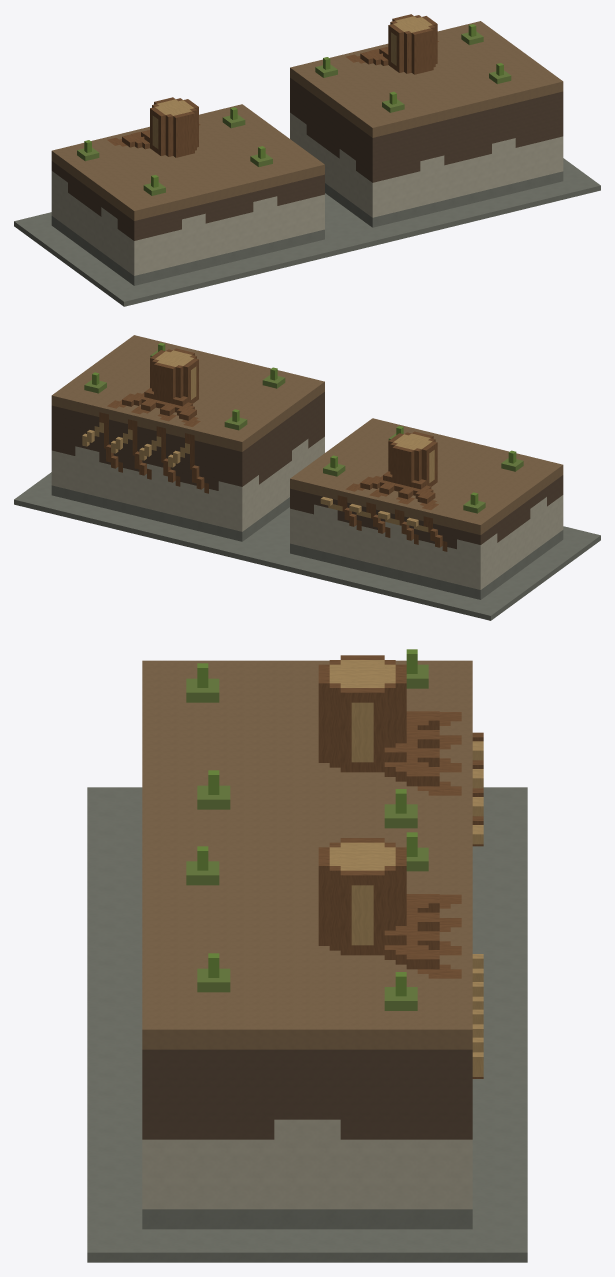
3 renders of one model, top to bottom at view 1: azimuth 30°, elevation 25°; view 2: azimuth 150°, elevation 25°; view 3: azimuth 270°, elevation 25°, orthographic. The views are drawn at different scales.
Visible parts, largest first — view 1: 土层剖面与裸露根际基底 (×2), 两份作者根际切片共用岩床（辅助）; view 2: 土层剖面与裸露根际基底 (×2), 两份作者根际切片共用岩床（辅助）; view 3: 土层剖面与裸露根际基底 (×2), 两份作者根际切片共用岩床（辅助）.
Boxes of the visible parts, box(x1,y1,x2,y2) form: 土层剖面与裸露根际基底 (×2): box(51, 14, 563, 285); 两份作者根际切片共用岩床（辅助）: box(14, 158, 600, 306); 土层剖面与裸露根际基底 (×2): box(51, 335, 563, 599); 两份作者根际切片共用岩床（辅助）: box(14, 472, 600, 620); 土层剖面与裸露根际基底 (×2): box(142, 649, 483, 1229); 两份作者根际切片共用岩床（辅助）: box(87, 787, 527, 1262).
Size of the model in its own units: 20 by 5.8 by 8.
Materials: 8 (8 with a texture image).
